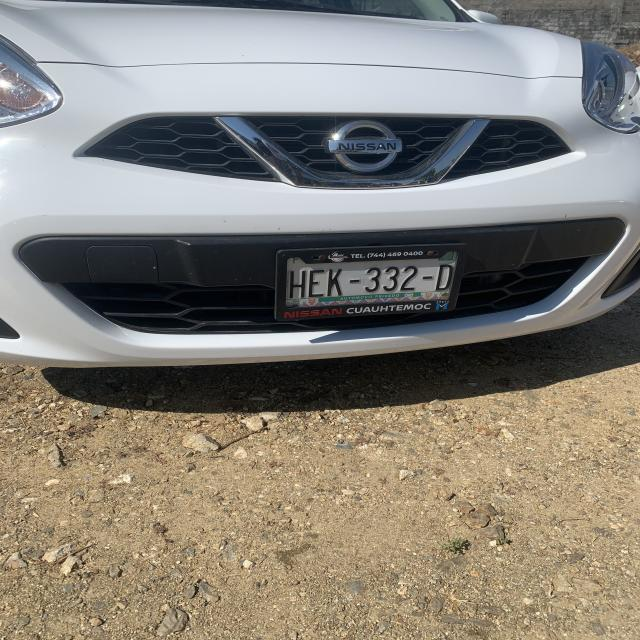placa: (279, 259, 456, 301)
